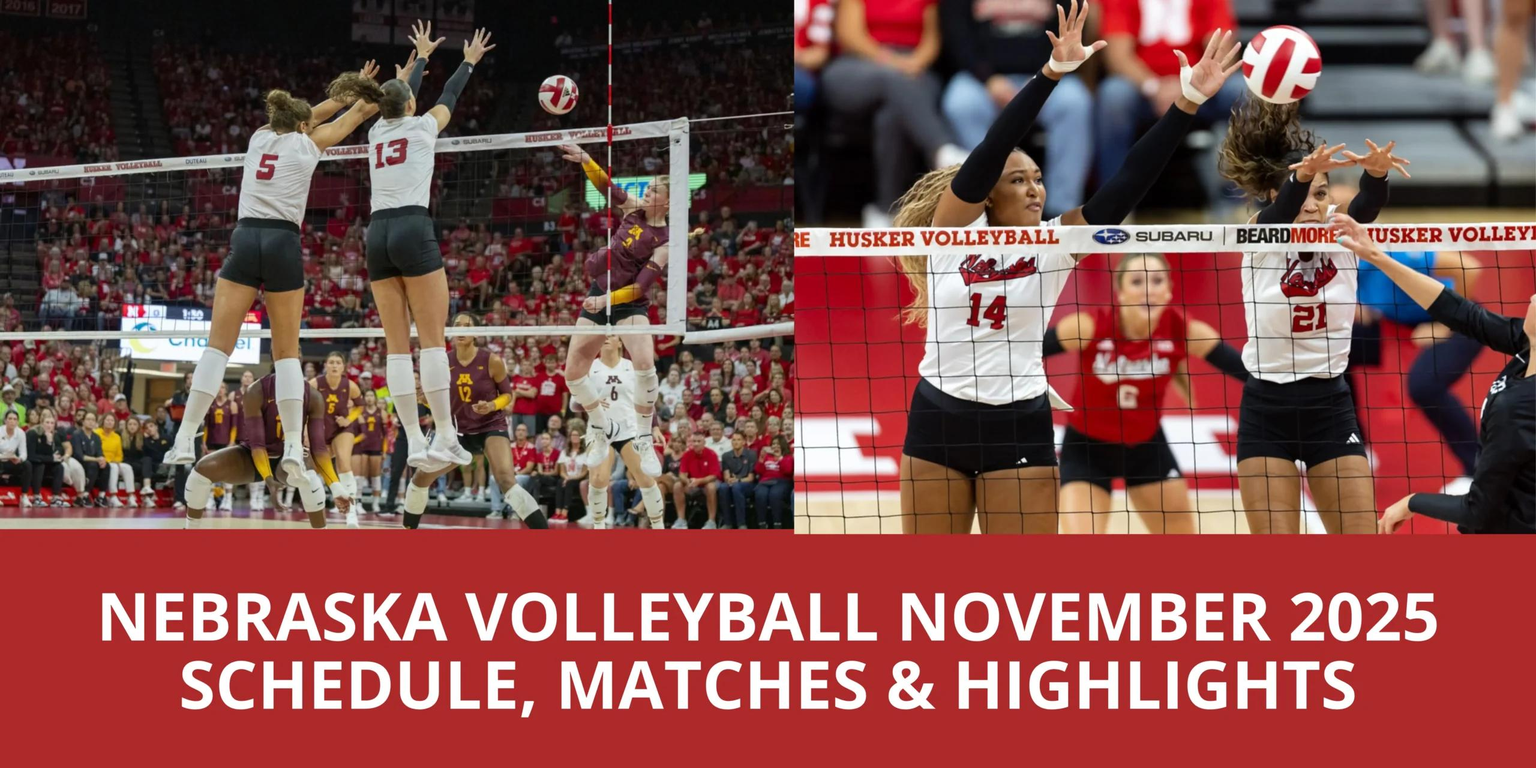ballon_volley: (1240, 25, 1323, 104), (537, 75, 579, 115)
